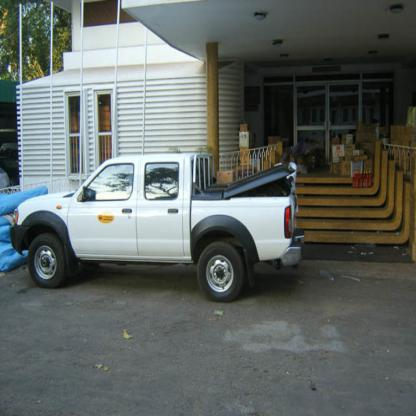Truck: (9, 151, 304, 303)
